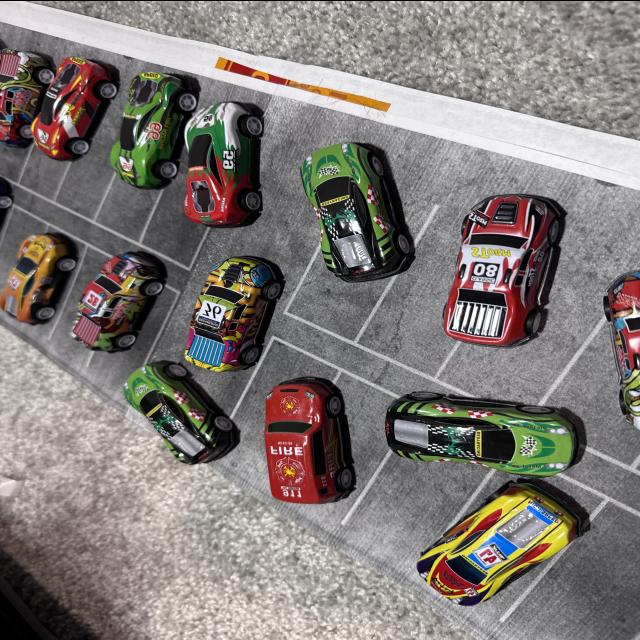Car: (110, 261, 298, 425), (388, 487, 640, 605), (360, 362, 580, 484), (290, 126, 427, 304), (442, 196, 562, 342), (110, 356, 232, 466), (68, 240, 166, 360), (182, 98, 266, 226), (110, 70, 198, 190), (258, 376, 343, 491), (31, 54, 119, 162), (0, 232, 77, 326)
